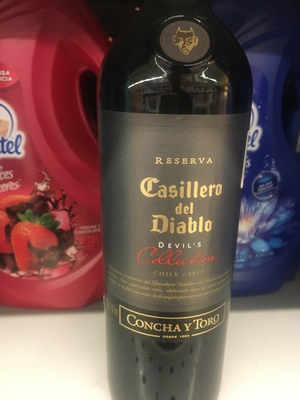casillero del diablo devils collection rojo: (94, 12, 259, 393)
